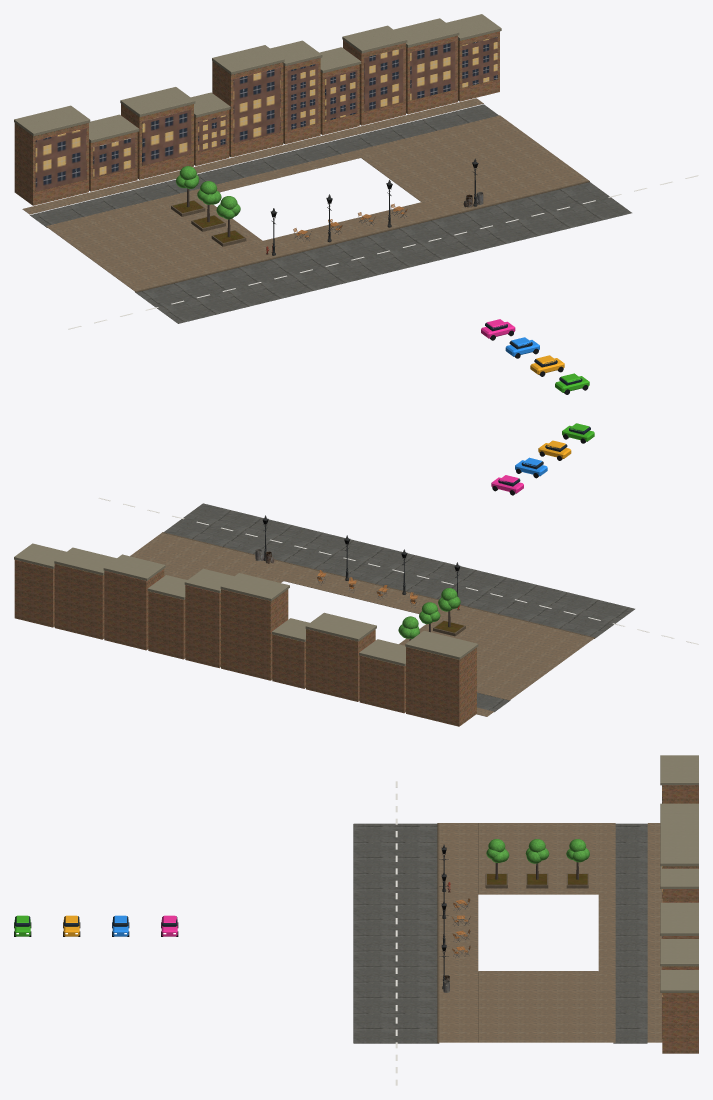
File: burger-luar.glb
3 views of the same model, one above another, from view 1: azimuth 30°, elevation 25°; view 2: azimuth 150°, elevation 25°; view 3: azimuth 270°, elevation 25° (orthographic). The views are drawn at different scales.
Parts seen in each view (by area): view 1: statis; view 2: statis; view 3: statis.
Part boxes in pixels (bbox=[...]): statis: bbox=[14, 14, 698, 329]; statis: bbox=[14, 497, 698, 726]; statis: bbox=[353, 755, 698, 1085].
Bounding box in the file's own units: 58.8 × 7.82 × 55.91.
36 materials, 28 textured.
